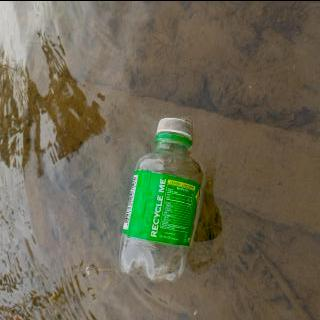bottle: (116, 117, 204, 283)
